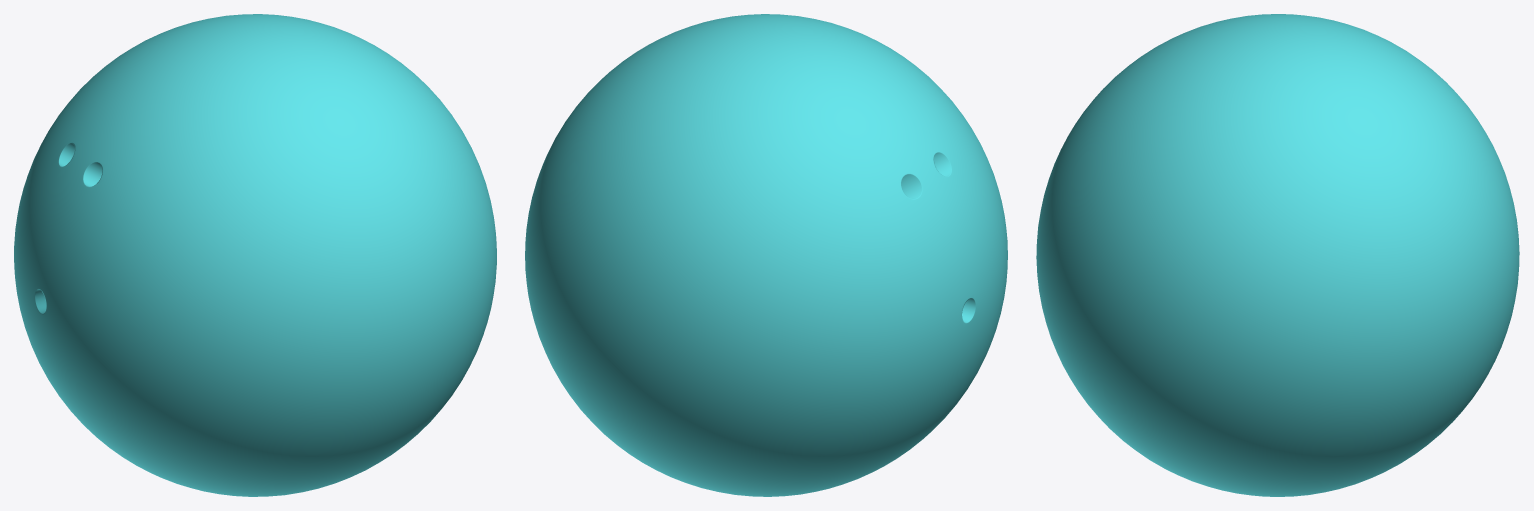
File: bowling-ball.fbx
The picture shows the model from 3 angles, left to right: view 1: azimuth 30°, elevation 25°; view 2: azimuth 150°, elevation 25°; view 3: azimuth 270°, elevation 25°; orthographic projection.
Visible parts, largest first — view 1: Bowling Ball; view 2: Bowling Ball; view 3: Bowling Ball.
Boxes of the visible parts, x1=… form: Bowling Ball: x1=14, y1=14, x2=496, y2=496; Bowling Ball: x1=525, y1=14, x2=1007, y2=496; Bowling Ball: x1=1036, y1=14, x2=1519, y2=496.
Size of the model in its own units: 216 by 216 by 216.
